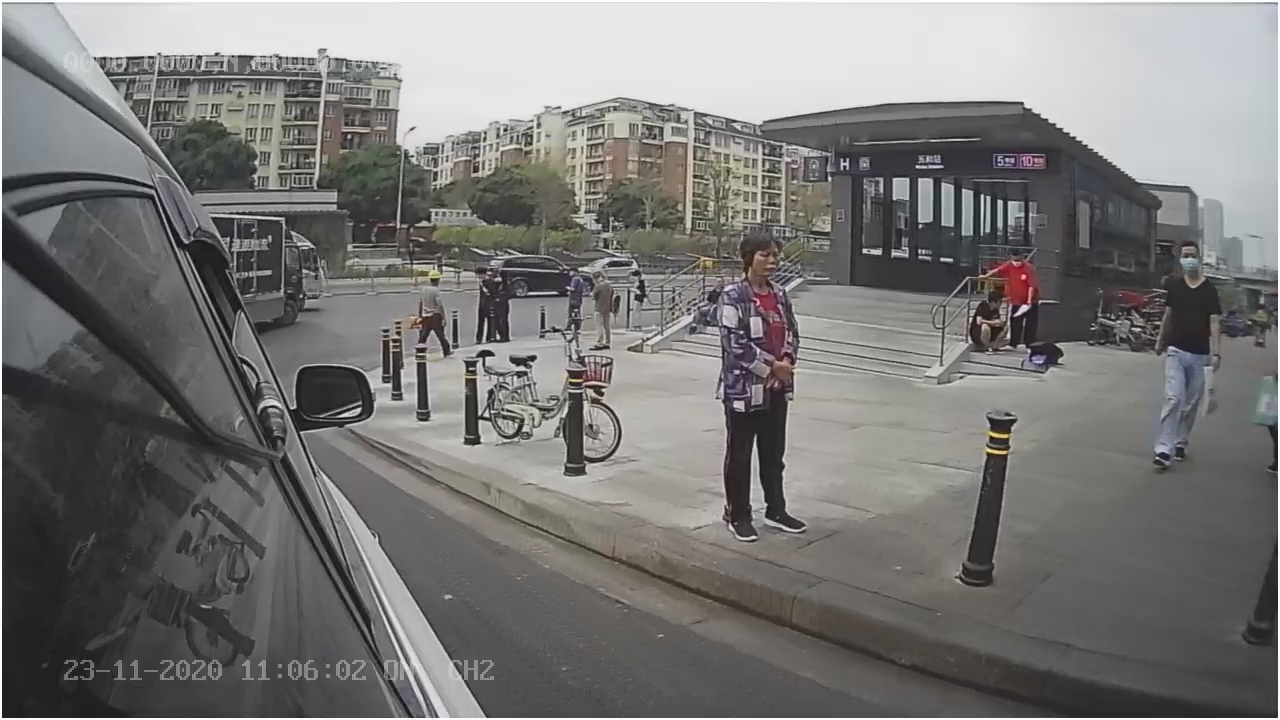person: (708, 228, 819, 551)
